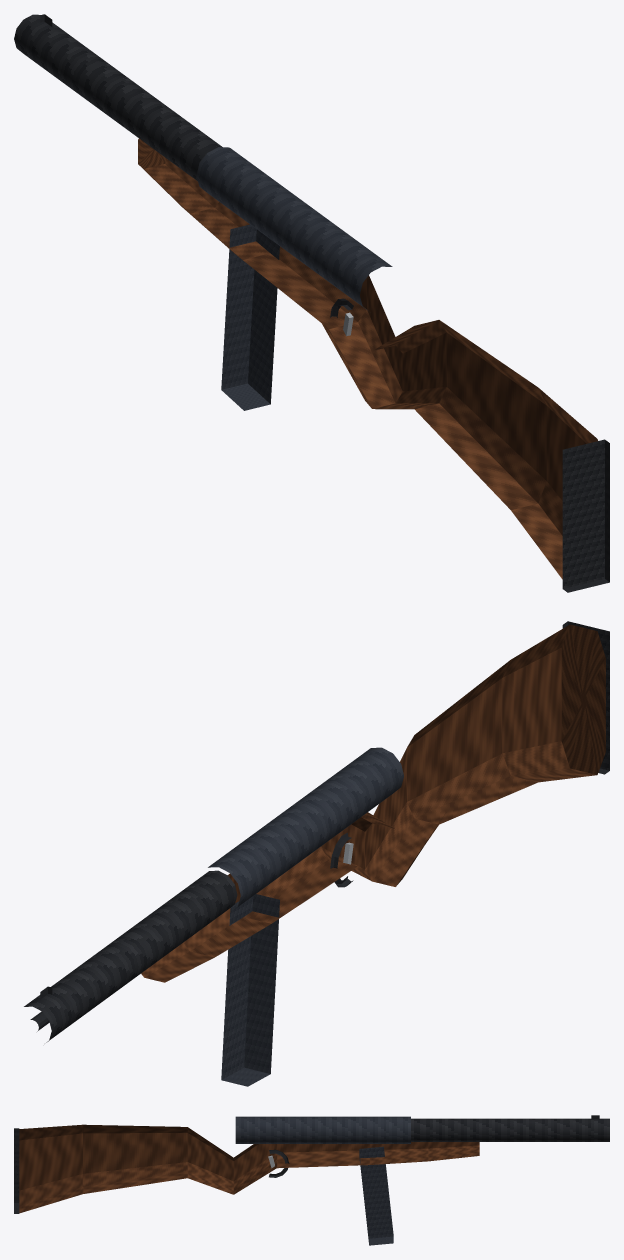
Rendered from beretta_mab38.glb.
3 renders of one model, top to bottom at view 1: azimuth 30°, elevation 25°; view 2: azimuth 150°, elevation 25°; view 3: azimuth 270°, elevation 25°, orthographic. The views are drawn at different scales.
Parts seen in each view (by area): view 1: WeaponMesh; view 2: WeaponMesh; view 3: WeaponMesh.
Boxes of the visible parts, x1,y1,x2,y2 form: WeaponMesh: [14, 14, 609, 592]; WeaponMesh: [24, 621, 609, 1086]; WeaponMesh: [14, 1115, 609, 1245].
Bounding box in the file's own units: 0.042 × 0.2029 × 0.868.
4 materials, 4 textured.
